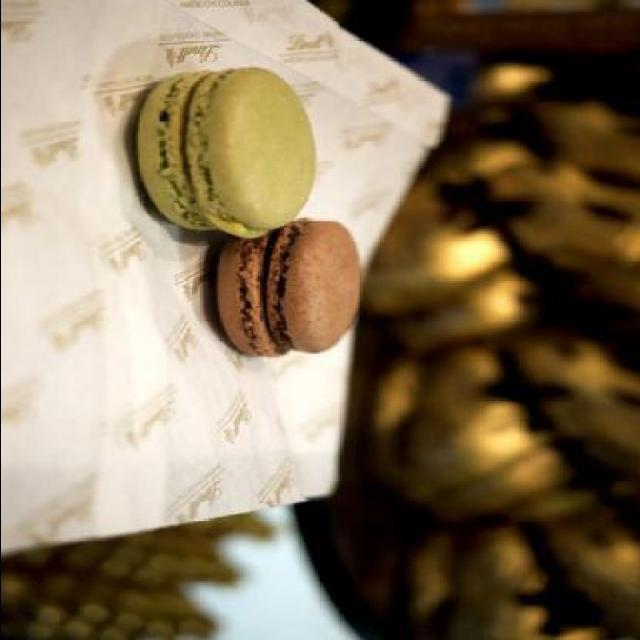Macaron: (129, 65, 363, 362)
